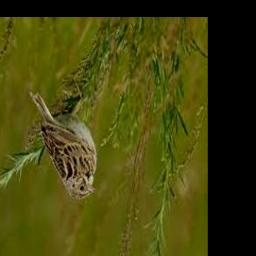Sparrow: (28, 90, 97, 200)
